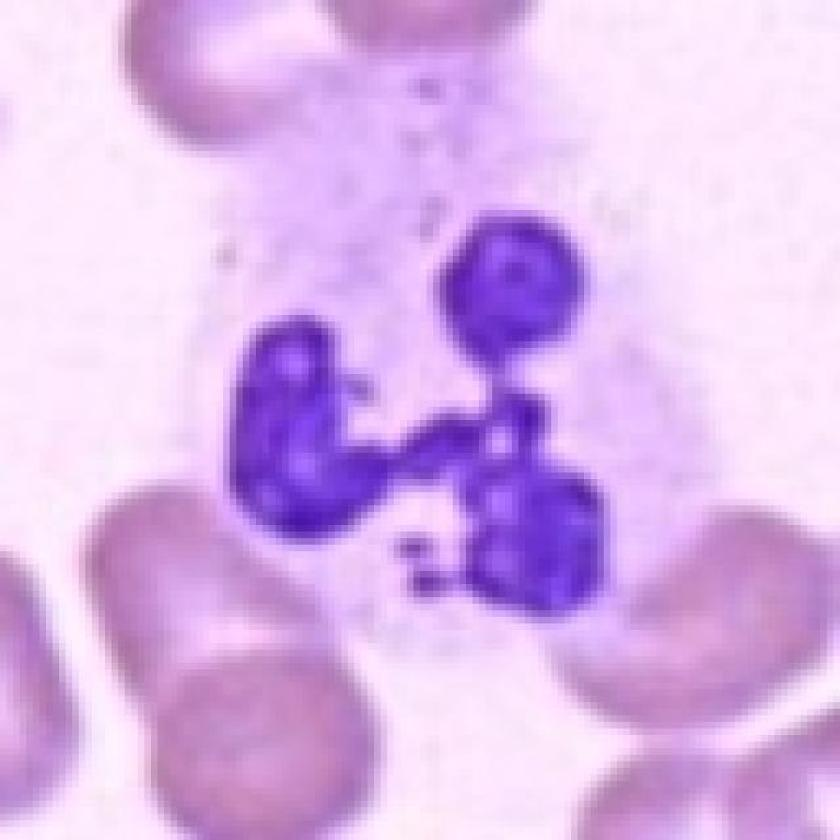neutrophil: (175, 51, 713, 665)
